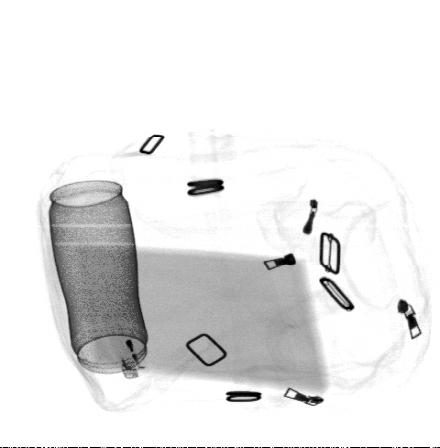Lighter: (101, 309, 150, 379)
